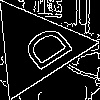D: (11, 22, 75, 79)
